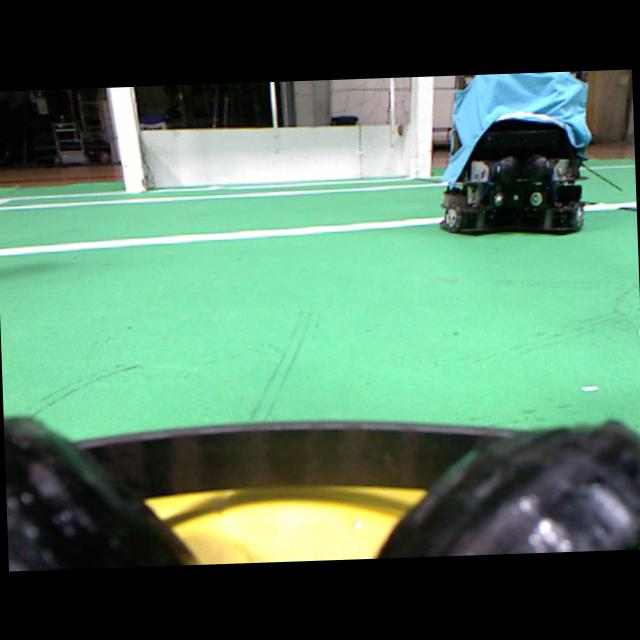ball: (145, 486, 424, 562)
goal: (107, 86, 144, 192), (410, 76, 432, 177)
